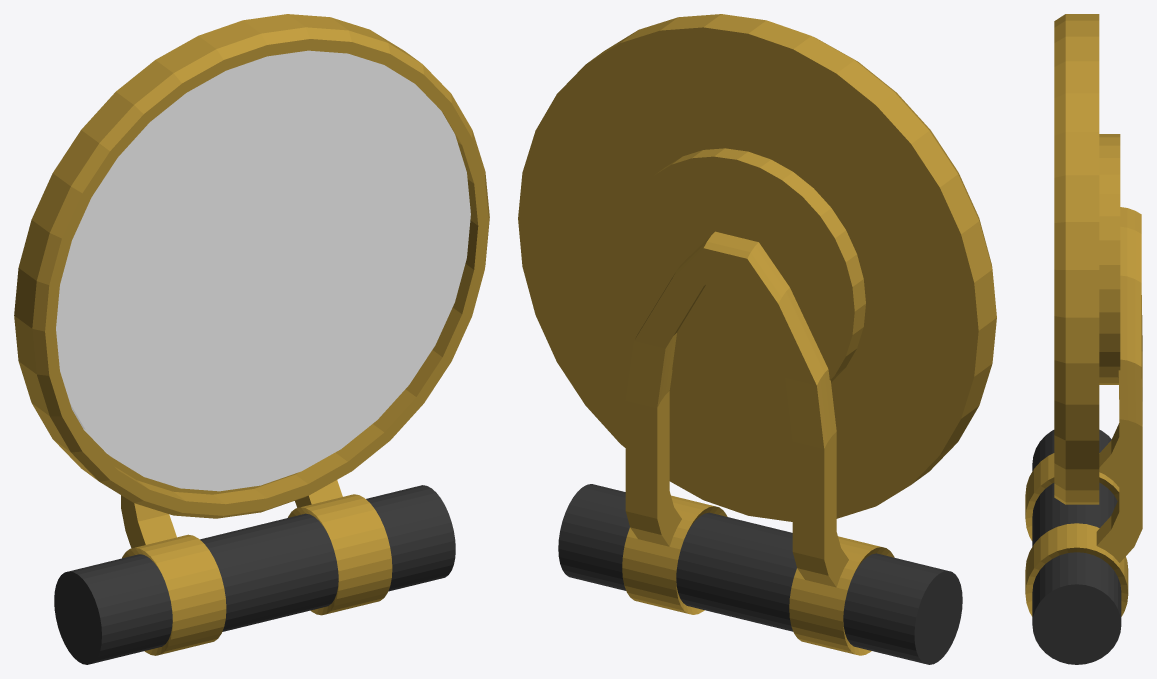
Rendered from mirror.glb.
The picture shows the model from 3 angles, left to right: view 1: azimuth 30°, elevation 25°; view 2: azimuth 150°, elevation 25°; view 3: azimuth 270°, elevation 25°; orthographic projection. The views are drawn at different scales.
Visible parts, largest first — view 1: Mirror; view 2: Mirror; view 3: Mirror.
Part boxes in pixels (x1,y1,x2,y2): Mirror: [14, 14, 489, 664]; Mirror: [518, 14, 996, 664]; Mirror: [1025, 14, 1142, 664].
Size of the model in its own units: 1.51 by 1.88 by 0.359.
